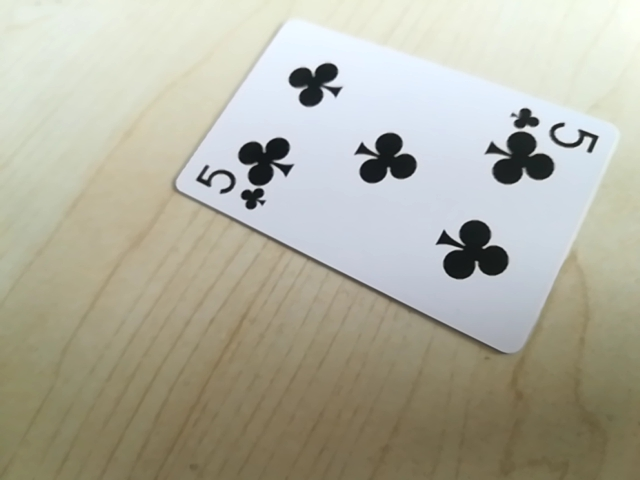mh 5: (508, 109, 603, 150), (195, 167, 273, 213)
